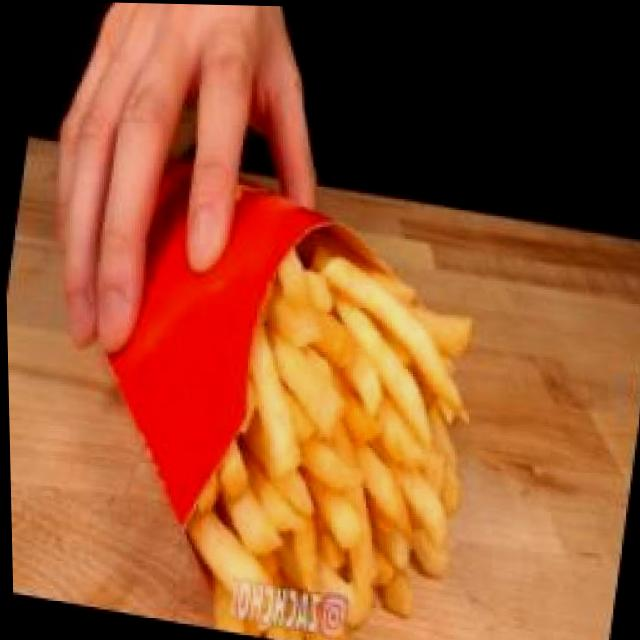french fries: (130, 164, 516, 640)
